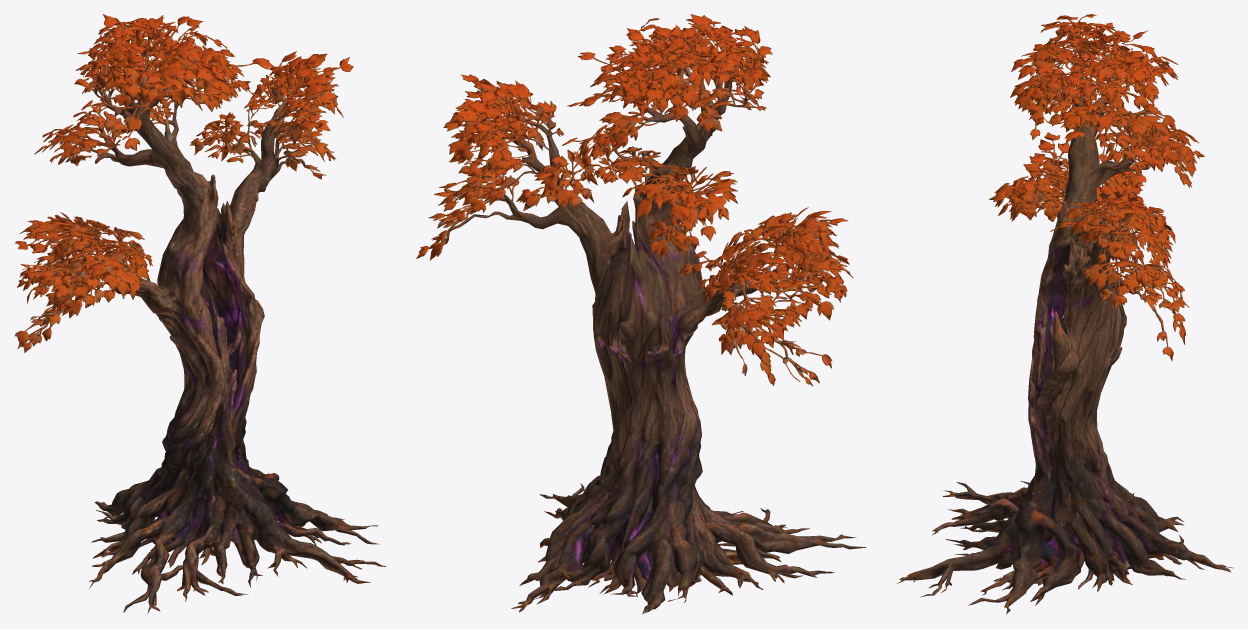
The model's file is tree-split.glb.
3 views of the same model, side by side, from view 1: azimuth 30°, elevation 25°; view 2: azimuth 150°, elevation 25°; view 3: azimuth 270°, elevation 25° (orthographic). The views are drawn at different scales.
Parts seen in each view (by area): view 1: Mesh_0; view 2: Mesh_0; view 3: Mesh_0.
Part boxes in pixels (x1,y1,x2,y2): Mesh_0: [14, 14, 386, 613]; Mesh_0: [416, 14, 866, 614]; Mesh_0: [897, 14, 1233, 614].
Bounding box in the file's own units: 1.35 × 1.87 × 1.16.
1 material, 1 textured.
